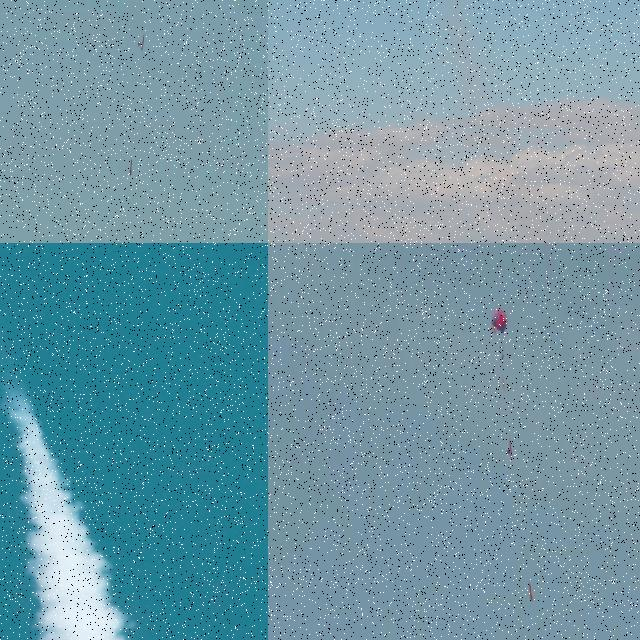Rocket: (529, 583, 533, 601), (130, 159, 132, 176)
